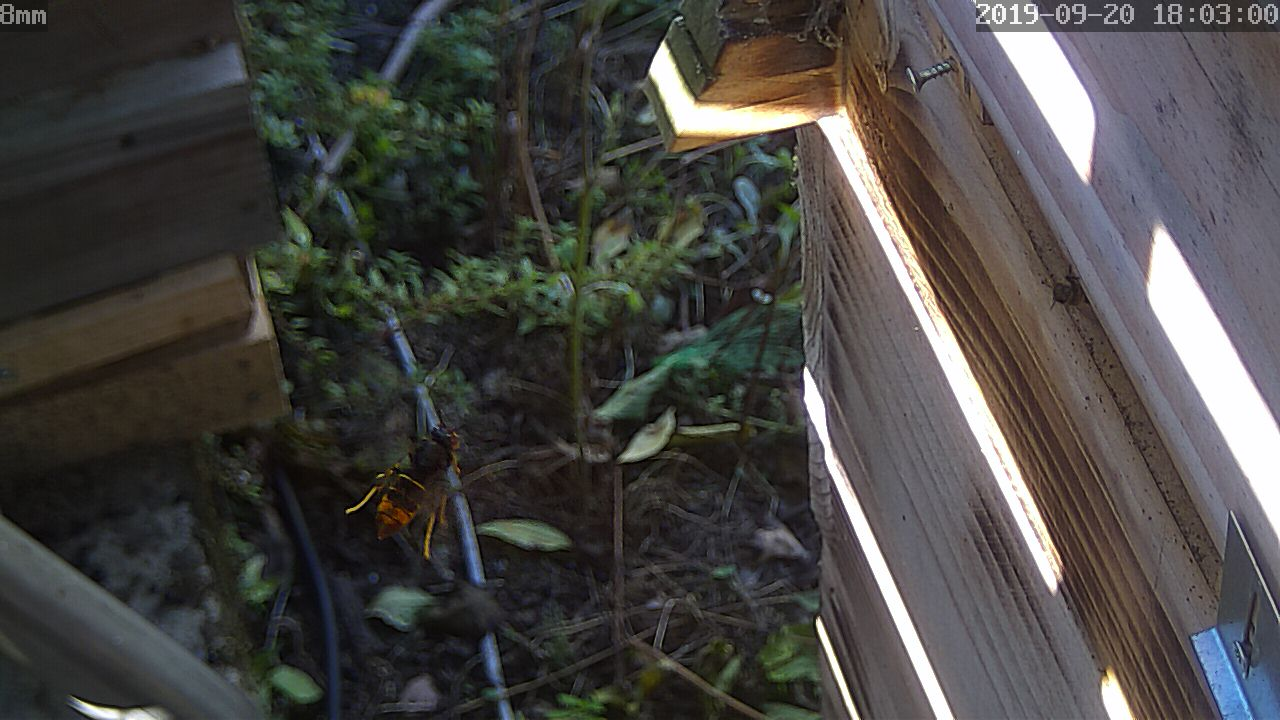bee: (1046, 265, 1094, 318)
hornet: (357, 406, 472, 557)
